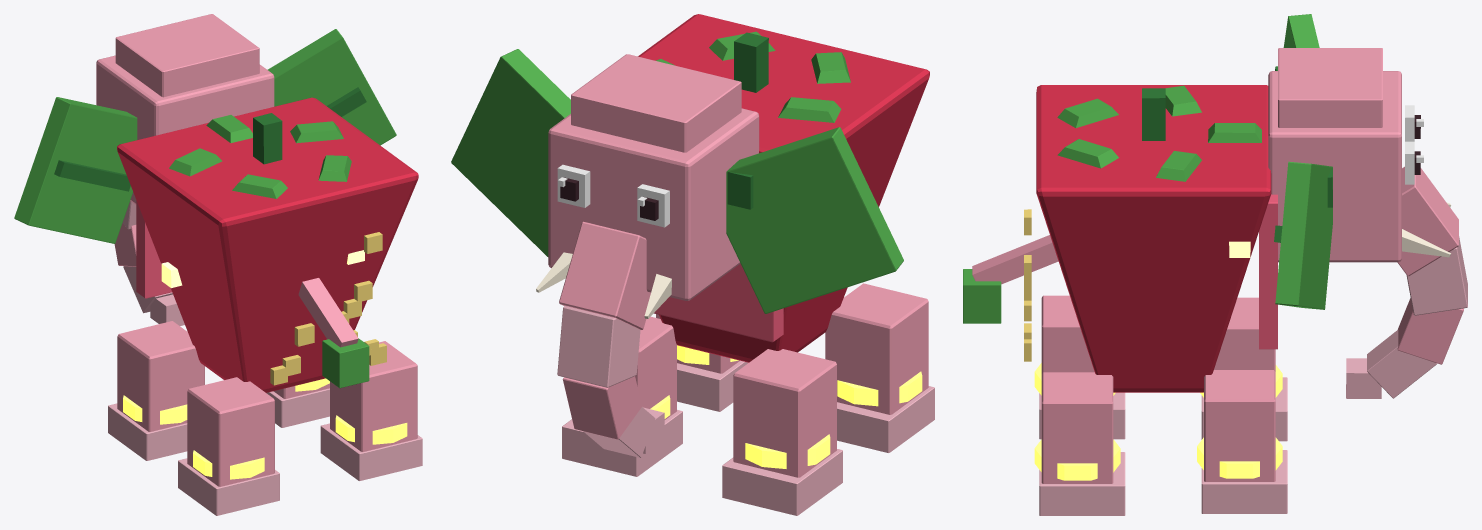
File: strawberry-elephant.glb
3 views of the same model, side by side, from view 1: azimuth 30°, elevation 25°; view 2: azimuth 150°, elevation 25°; view 3: azimuth 270°, elevation 25° (orthographic). The views are drawn at different scales.
Parts seen in each view (by area): view 1: body, head, ear.R, leg.BR, leg.FR, leg.BL, ear.L, tail, leg.FL; view 2: head, body, ear.R, leg.FR, leg.BR, ear.L, leg.FL, leg.BL; view 3: body, head, leg.BL, leg.FL, ear.L, leg.BR, tail, leg.FR, ear.R.
Part boxes in pixels (left/top/right/bottom): body: left=117, top=97, right=418, bottom=392; head: left=96, top=14, right=274, bottom=325; ear.R: left=14, top=97, right=137, bottom=243; leg.BR: left=178, top=377, right=279, bottom=515; leg.FR: left=108, top=321, right=204, bottom=460; leg.BL: left=320, top=341, right=422, bottom=480; ear.L: left=267, top=29, right=396, bottom=145; tail: left=298, top=278, right=369, bottom=388; leg.FL: left=266, top=378, right=329, bottom=427; head: left=536, top=54, right=759, bottom=457; body: left=638, top=14, right=929, bottom=362; ear.R: left=726, top=127, right=903, bottom=313; leg.FR: left=722, top=349, right=842, bottom=515; leg.BR: left=825, top=283, right=934, bottom=452; ear.L: left=451, top=49, right=570, bottom=256; leg.FL: left=562, top=316, right=682, bottom=476; leg.BL: left=656, top=314, right=748, bottom=411; body: left=1024, top=85, right=1277, bottom=392; head: left=1268, top=48, right=1467, bottom=398; leg.BL: left=1034, top=372, right=1125, bottom=515; leg.FL: left=1197, top=370, right=1287, bottom=513; ear.L: left=1274, top=161, right=1332, bottom=309; leg.BR: left=1034, top=295, right=1125, bottom=439; tail: left=963, top=235, right=1058, bottom=323; leg.FR: left=1200, top=297, right=1287, bottom=441; ear.R: left=1275, top=14, right=1319, bottom=70.
Bounding box in the file's own units: 1.12 × 1 × 1.18.
